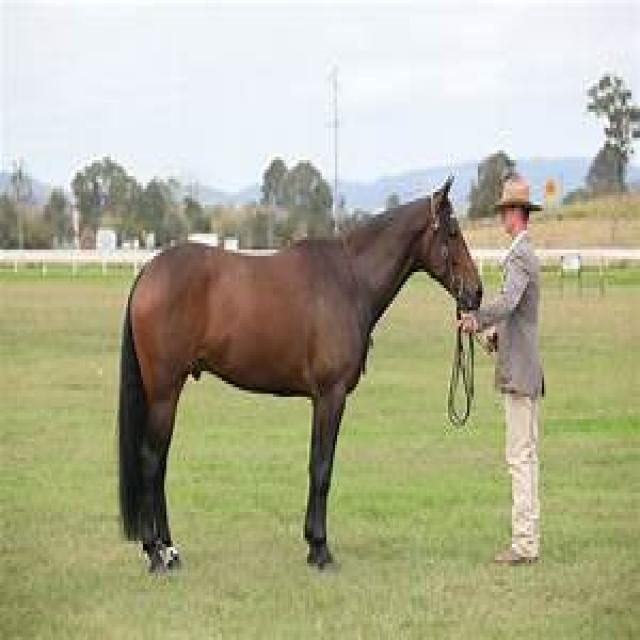horse: (117, 186, 484, 576)
